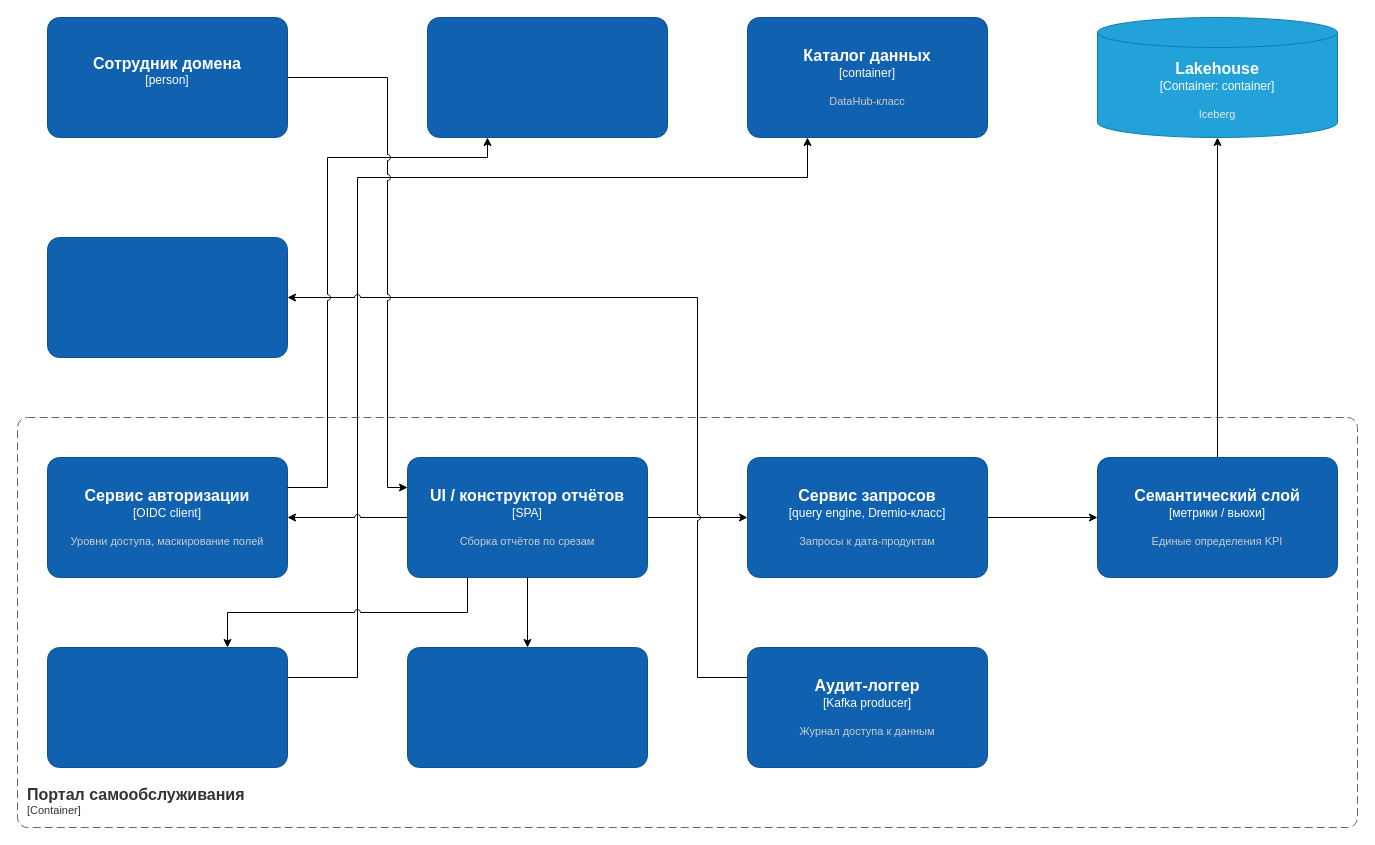
Image size: 1375x845. Some labels were removed from this diagram. The shapes that lost their labels are listed below. From the top down, each one's centre as x and y in pixels, then its label:
point (547, 77): API Gateway + IAM [SSO]
point (167, 297): Событийная шина [container] kafka
point (167, 707): Клиент каталога [REST client] Поиск дата-продуктов и схем
point (527, 707): Хранилище отчётов [metadata store] Сохранённые и расшаренные отчёты
